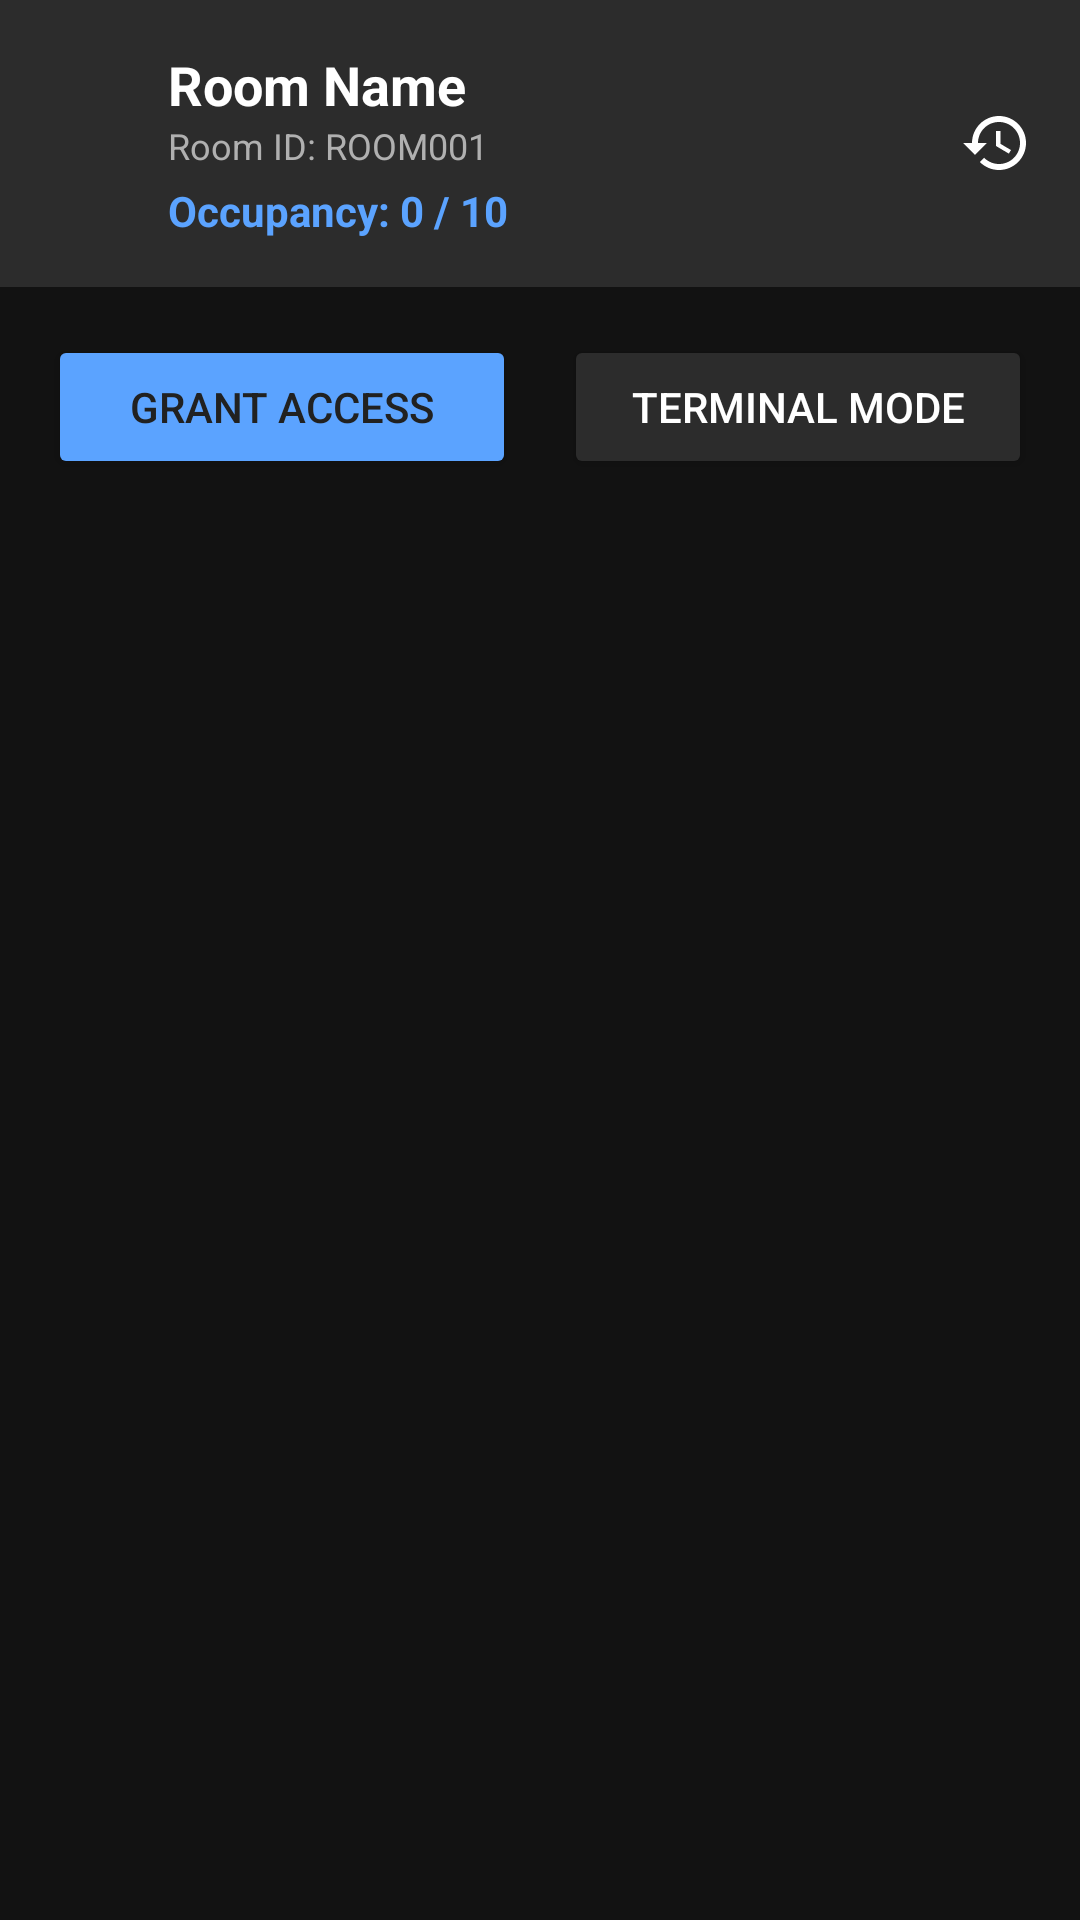

Screen size 1080x1920. Icon name, then its box in pixels as (x1, y1, x2, y2):
history: (963, 116, 1026, 170)
